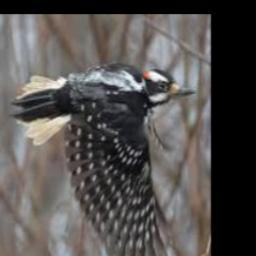Woodpecker: (11, 61, 195, 256)
